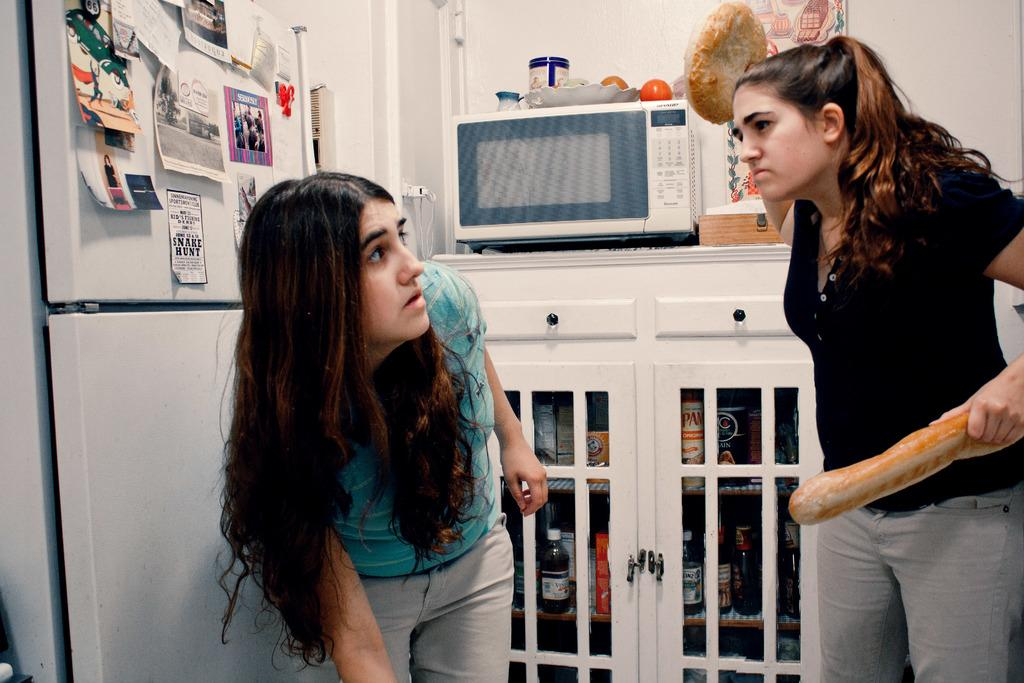cabinet_door: (659, 368, 791, 683), (528, 378, 638, 683), (486, 308, 628, 340), (664, 304, 778, 332)
handle: (718, 306, 752, 334), (647, 558, 671, 580), (628, 558, 642, 586), (540, 310, 562, 324)
